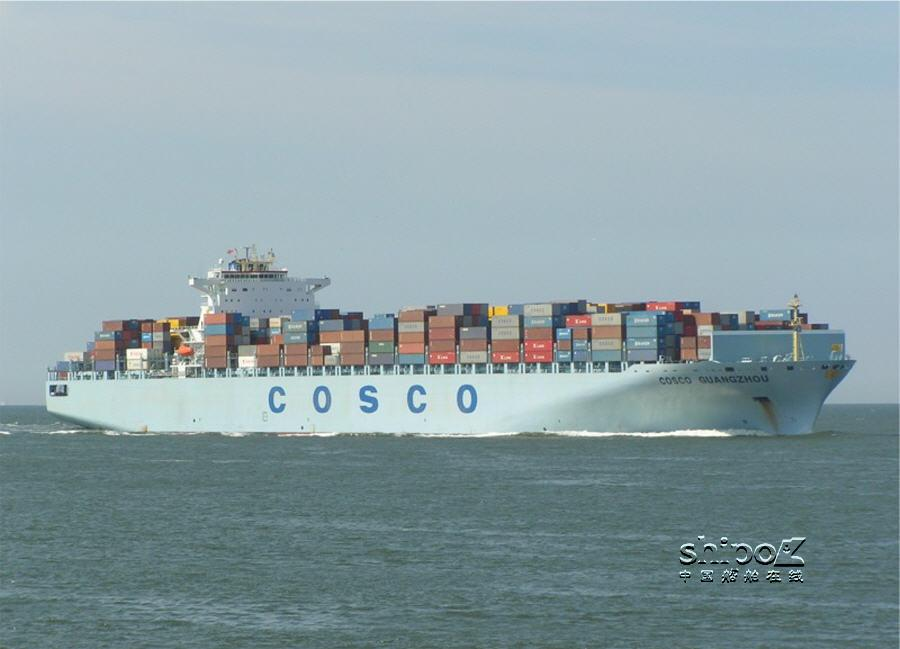Cargoship: (42, 230, 858, 439)
